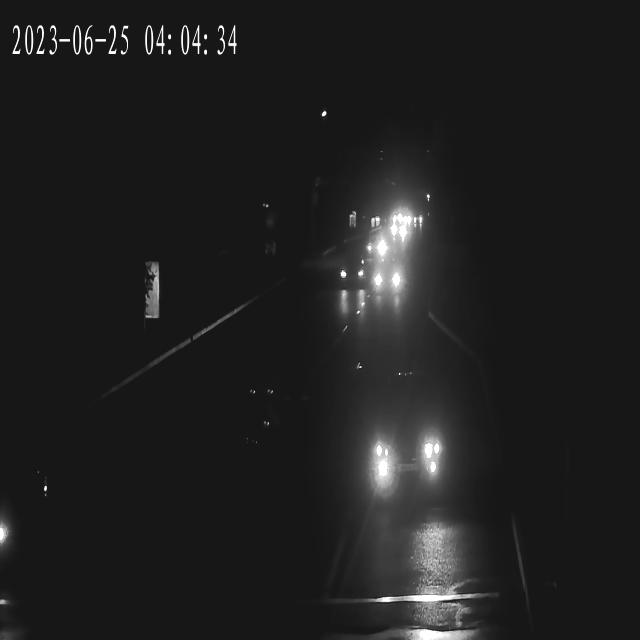Car: (362, 397, 445, 491), (370, 262, 404, 300), (334, 256, 368, 292), (364, 230, 391, 258), (389, 222, 408, 236), (390, 226, 408, 240)
